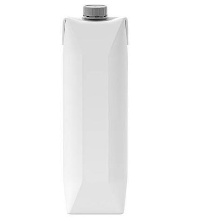carton: (57, 2, 134, 223)
